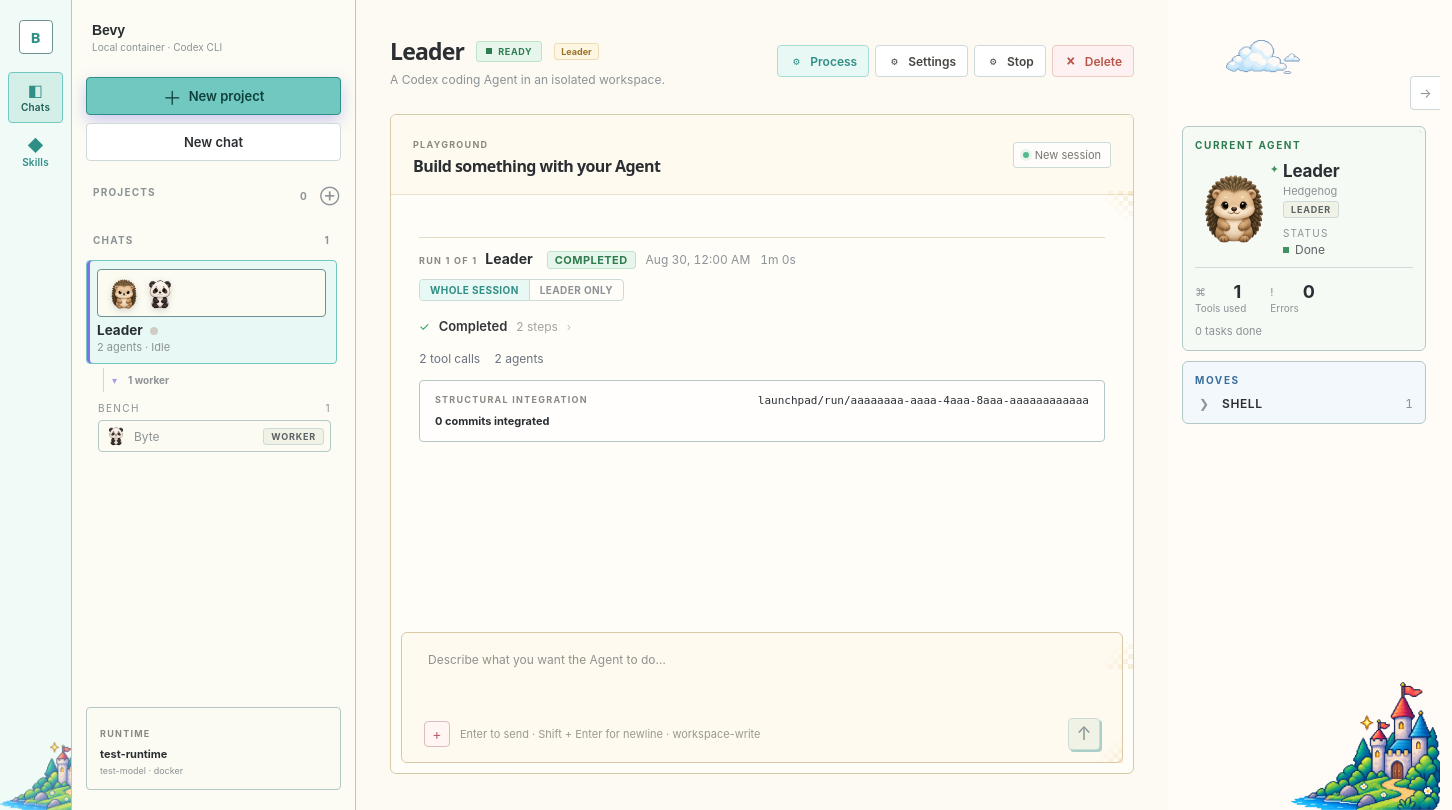
transcript scope in a leader session › drops every worker step when scoped to the leader
expect the heading "Leader" next to "ready" is shown: met, box x1=390 y1=35 x2=464 y2=67
Click the button "Leader only" at (576, 290), box x1=529 y1=280 x2=623 y2=300
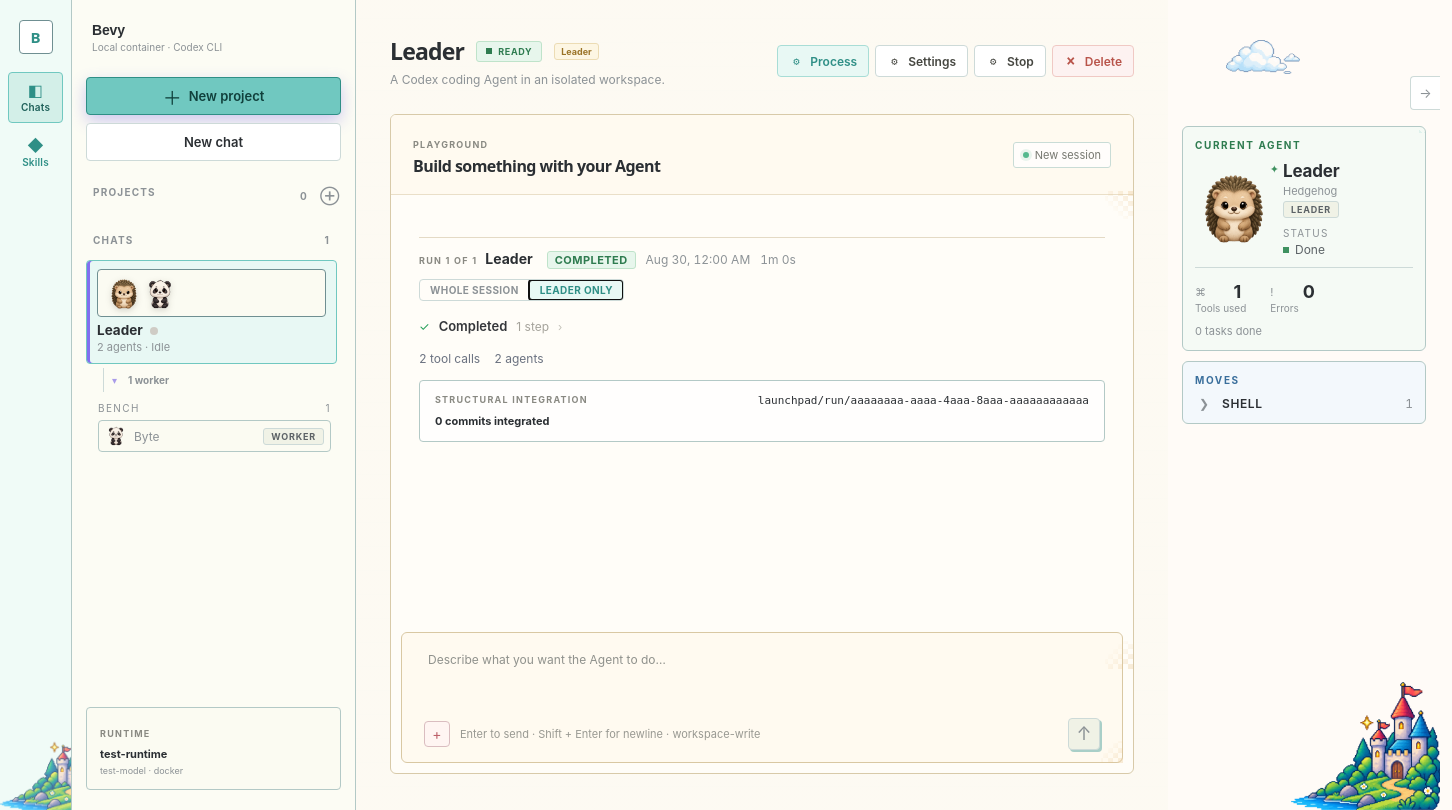
expect the element with class "stream-verdict" does not show "": met
expect the button with class "stream-verdict" shows "1 step": met, box x1=419 y1=311 x2=1105 y2=341
